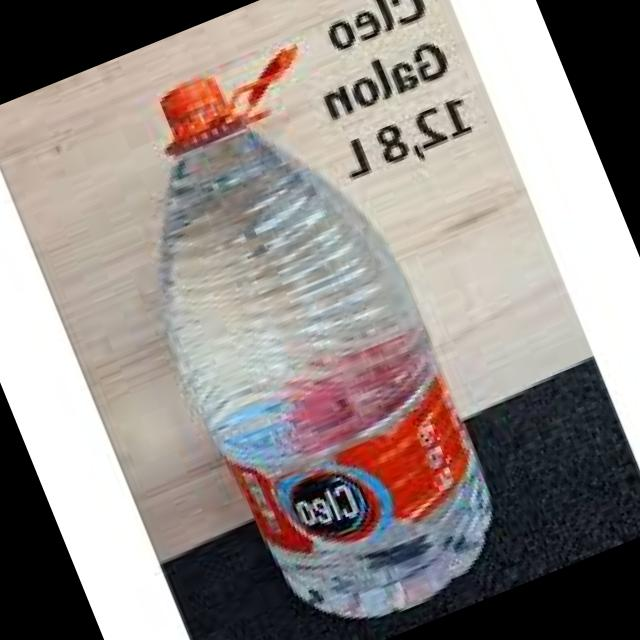Galon: (73, 27, 526, 640)
